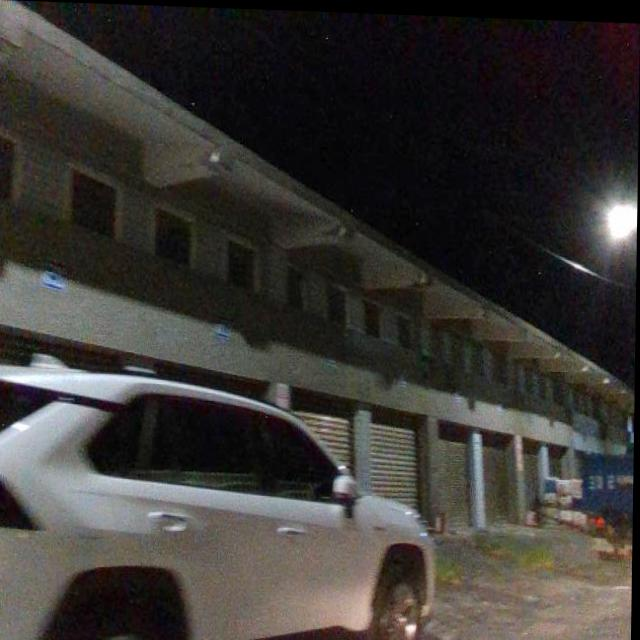pollute: (522, 467, 593, 536)
